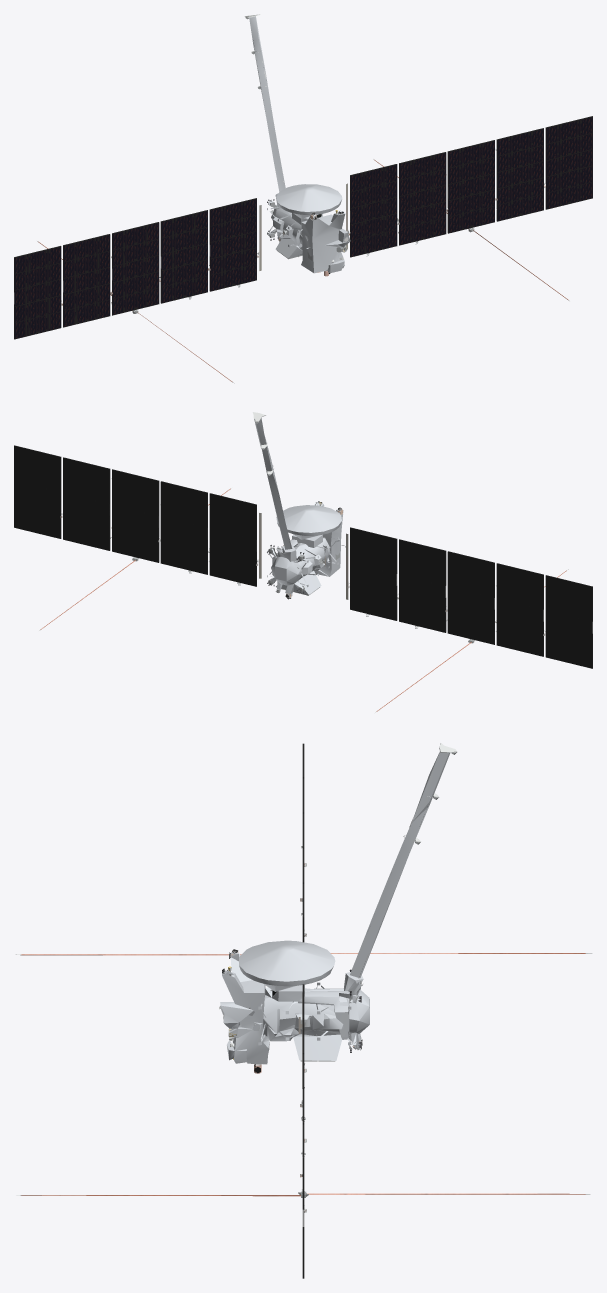
File: europa-clipper.glb
3 views of the same model, one above another, from view 1: azimuth 30°, elevation 25°; view 2: azimuth 150°, elevation 25°; view 3: azimuth 270°, elevation 25° (orthographic). The views are drawn at different scales.
Parts seen in each view (by area): view 1: solar_cells, solar_cells_chassis, blanket_hideable, blanket_hard, blanket_soft; view 2: solar_cells_chassis, blanket_hideable, blanket_soft, blanket_hard, reason; view 3: blanket_hideable, blanket_soft, blanket_hard, reason, solar_cells_chassis.
Part boxes in pixels (<box>): solar_cells: <box>14,117,592,338</box>; solar_cells_chassis: <box>14,116,592,339</box>; blanket_hideable: <box>249,16,350,273</box>; blanket_hard: <box>267,184,342,256</box>; blanket_soft: <box>268,200,310,258</box>; solar_cells_chassis: <box>14,445,592,668</box>; blanket_hideable: <box>254,418,343,597</box>; blanket_soft: <box>270,534,330,594</box>; blanket_hard: <box>267,505,345,587</box>; reason: <box>39,488,568,713</box>; blanket_hideable: <box>220,752,450,1064</box>; blanket_soft: <box>263,983,369,1060</box>; blanket_hard: <box>238,940,351,1045</box>; reason: <box>16,953,592,1197</box>; solar_cells_chassis: <box>298,743,306,1278</box>.
Bounding box in the file's own units: 30.5 × 11.25 × 18.
Materials: 16 (13 with a texture image).
